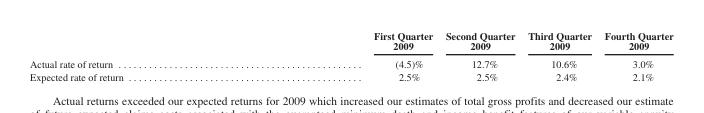table: (28, 29, 672, 82)
table column: (28, 29, 247, 82), (247, 29, 438, 82), (438, 29, 520, 82), (520, 29, 597, 82), (597, 29, 672, 82)
table column header: (28, 29, 672, 54)
table row: (28, 29, 672, 54), (28, 54, 672, 70), (28, 70, 672, 82)
